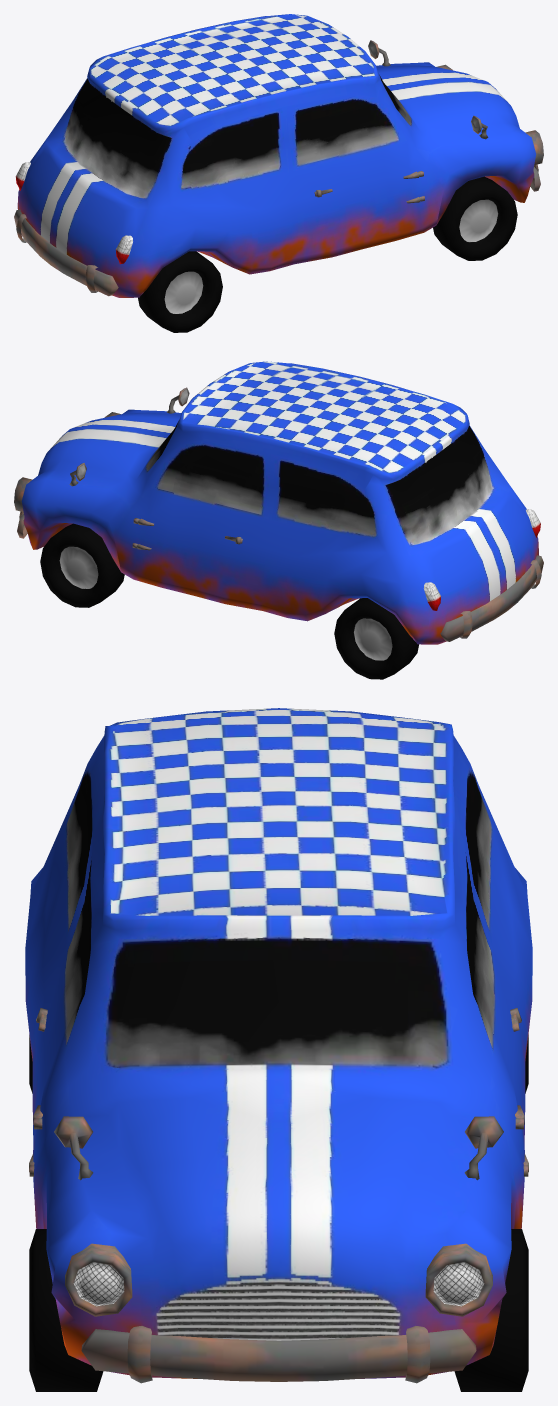
Rendered from carblue.glb.
3 views of the same model, one above another, from view 1: azimuth 30°, elevation 25°; view 2: azimuth 150°, elevation 25°; view 3: azimuth 270°, elevation 25° (orthographic). The views are drawn at different scales.
Parts seen in each view (by area): view 1: carblue; view 2: carblue; view 3: carblue.
Part boxes in pixels (x1,y1,x2,y2): carblue: (14, 14, 543, 332); carblue: (14, 361, 543, 679); carblue: (25, 708, 532, 1391).
Size of the model in its own units: 8.13 by 3.46 by 3.93.
Materials: 1 (1 with a texture image).
